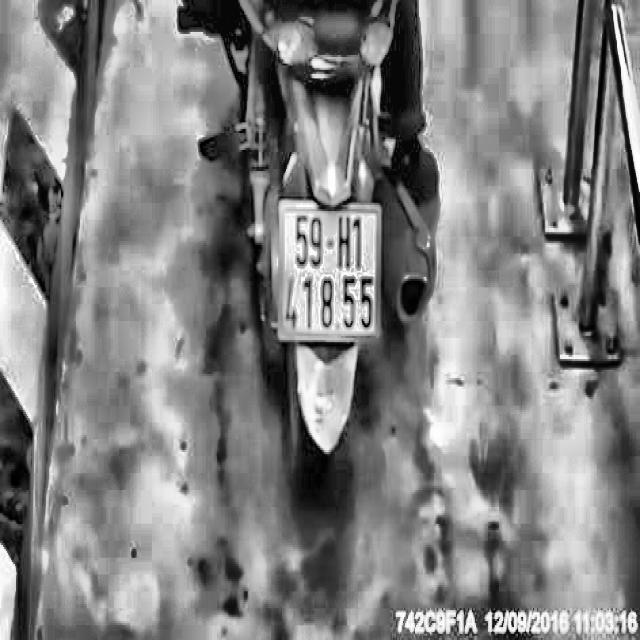plate: (276, 192, 384, 346)
